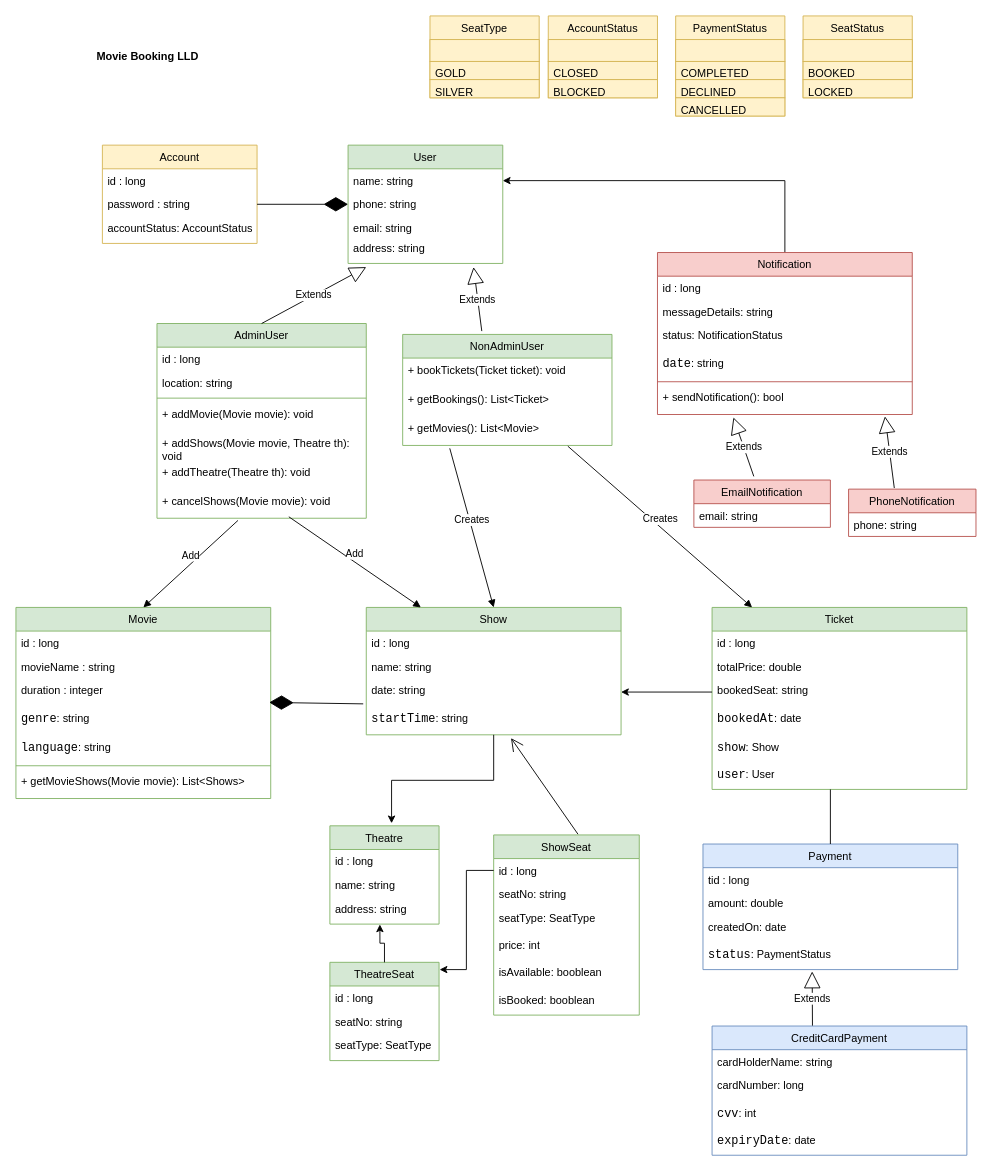
The diagram is 992 pixels wide and 1174 high, and some of its shapes have lost their labels. Each missing label, with the centre of its shape:
ACTIVE: (602,50)
AVAILABLE: (857,50)
DIAMOND: (484,50)
PENDING: (730,50)
